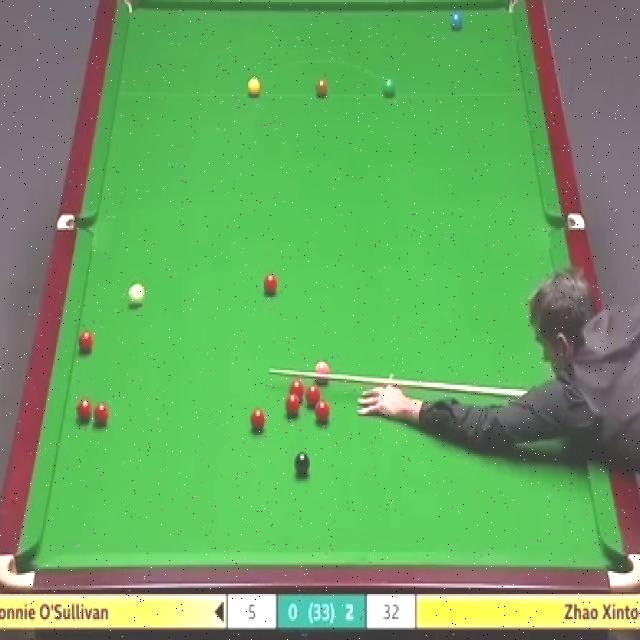black-ball: (294, 454, 310, 476)
blue-ball: (451, 11, 465, 29)
brown-ball: (316, 77, 329, 98)
green-ball: (382, 78, 396, 100)
pink-ball: (314, 359, 330, 385)
red-ball: (250, 407, 266, 435), (78, 328, 94, 354), (314, 398, 330, 423), (92, 402, 109, 425), (308, 381, 324, 404), (263, 274, 278, 297), (77, 398, 92, 421), (290, 379, 304, 402), (286, 394, 300, 416)
white-ball: (129, 282, 144, 309)
yellow-ball: (246, 77, 261, 98)
